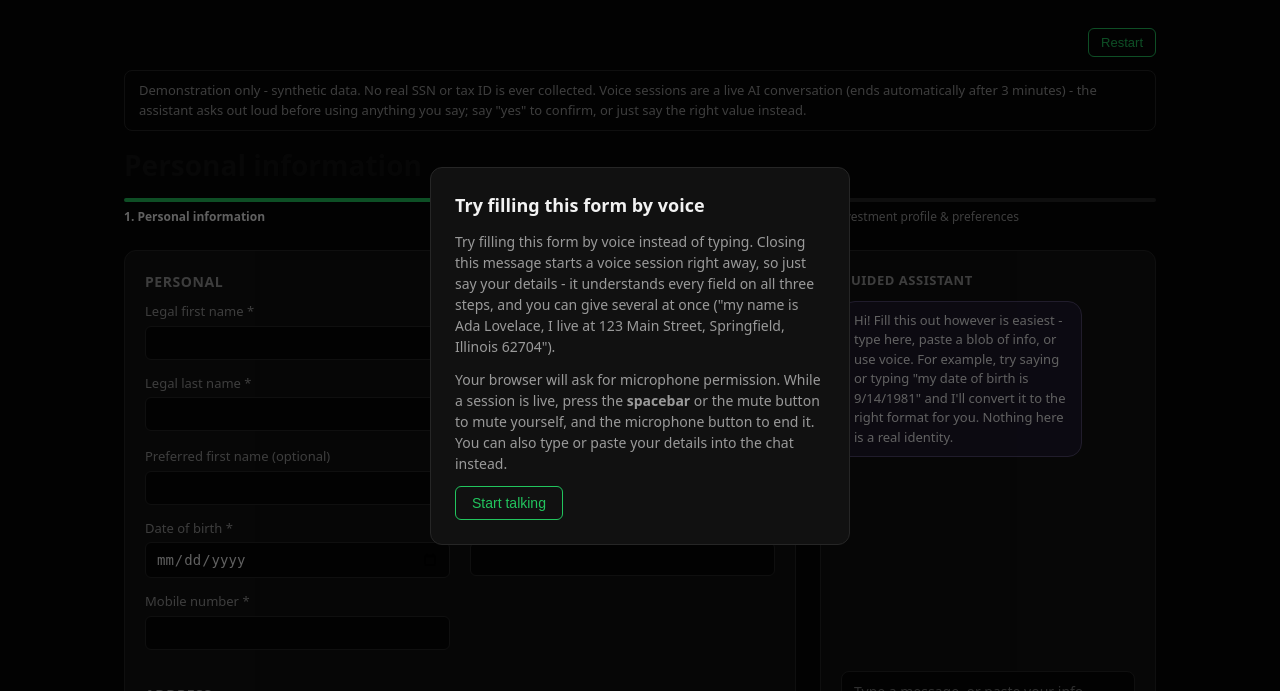
Test: PersonalInformationPage › shows a user chat bubble for the sent message and an acknowledgment listing what was found
The width and height of the screenshot is (1280, 691).
Click the button "Start talking".
click(509, 503)  # box [455,486,563,520]
(page scrolled)
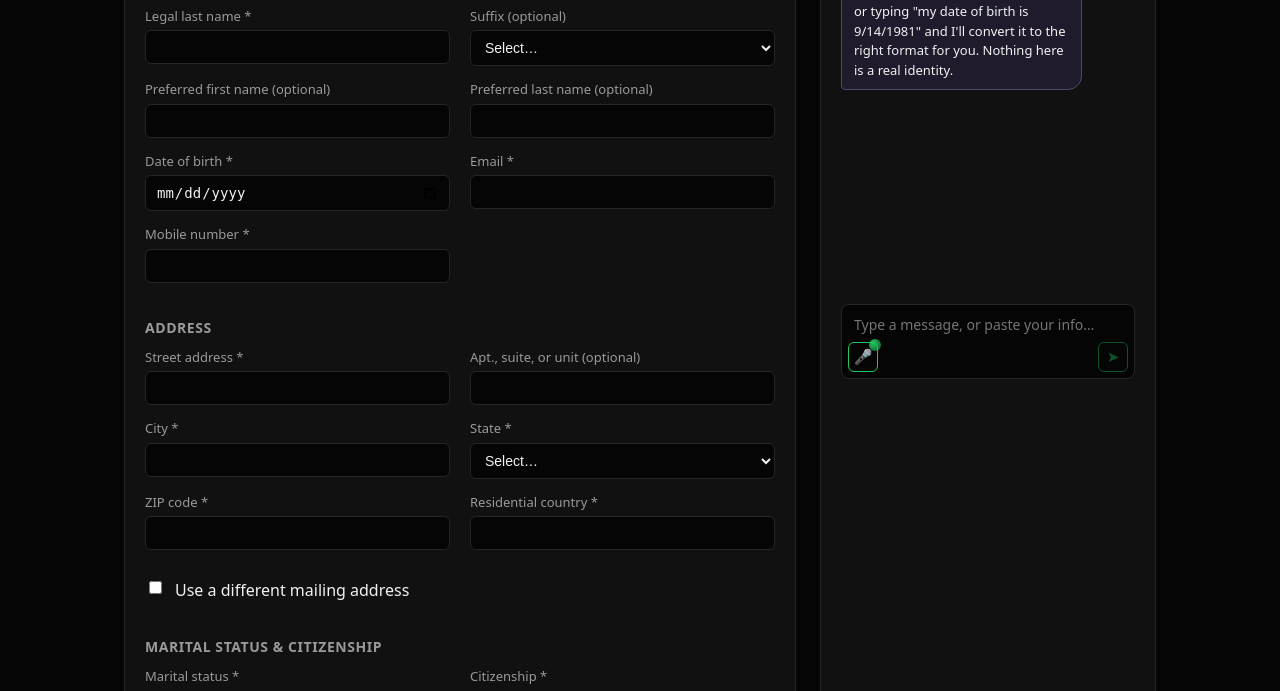
Click the button "🎤".
click(863, 356)  # box [848,342,878,372]
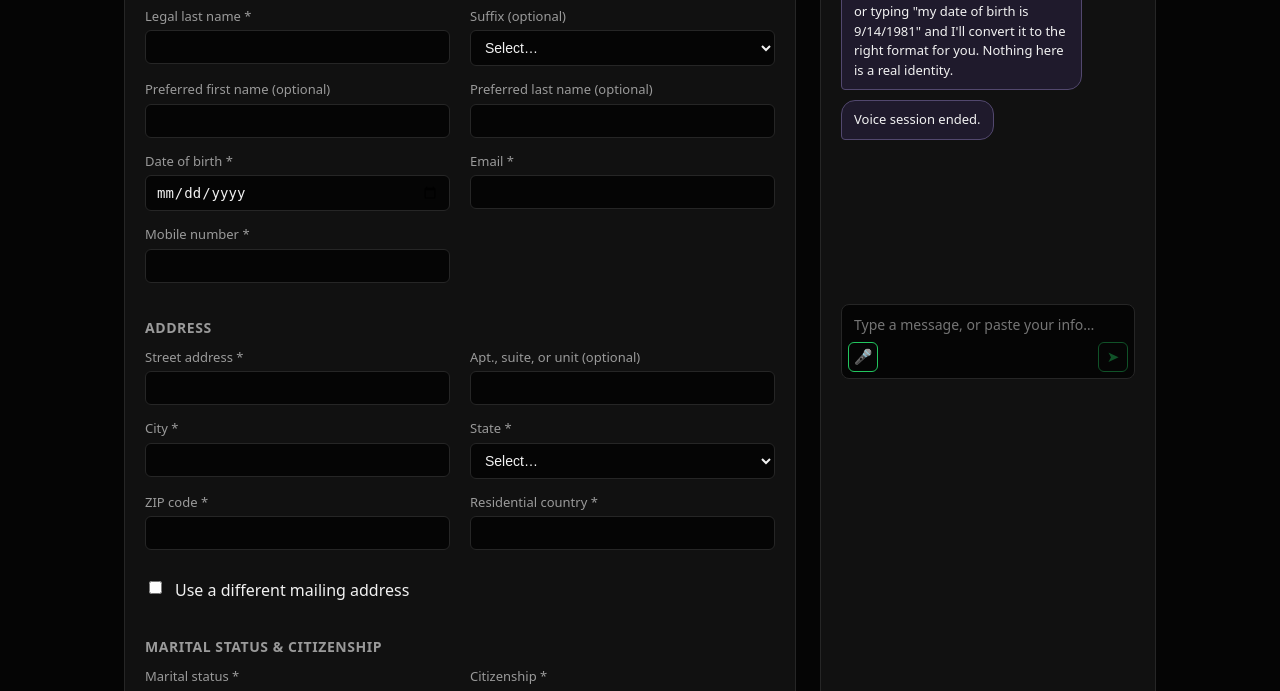
Type "my email is ada@example.test" into the text box with placeholder "Type a message, or paste your info…".
click(988, 321); type("my email is ada@example.test")  # box [842,304,1134,338]
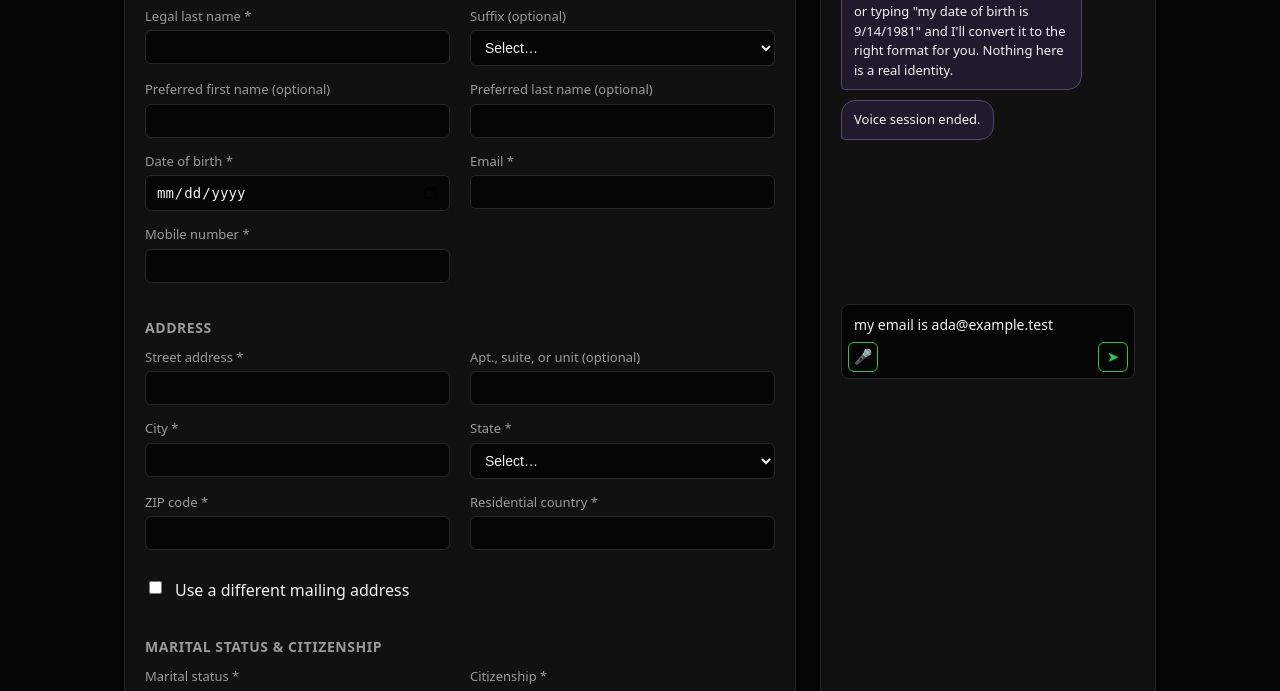
Click the button named "send".
click(1113, 356)  # box [1098,342,1128,372]
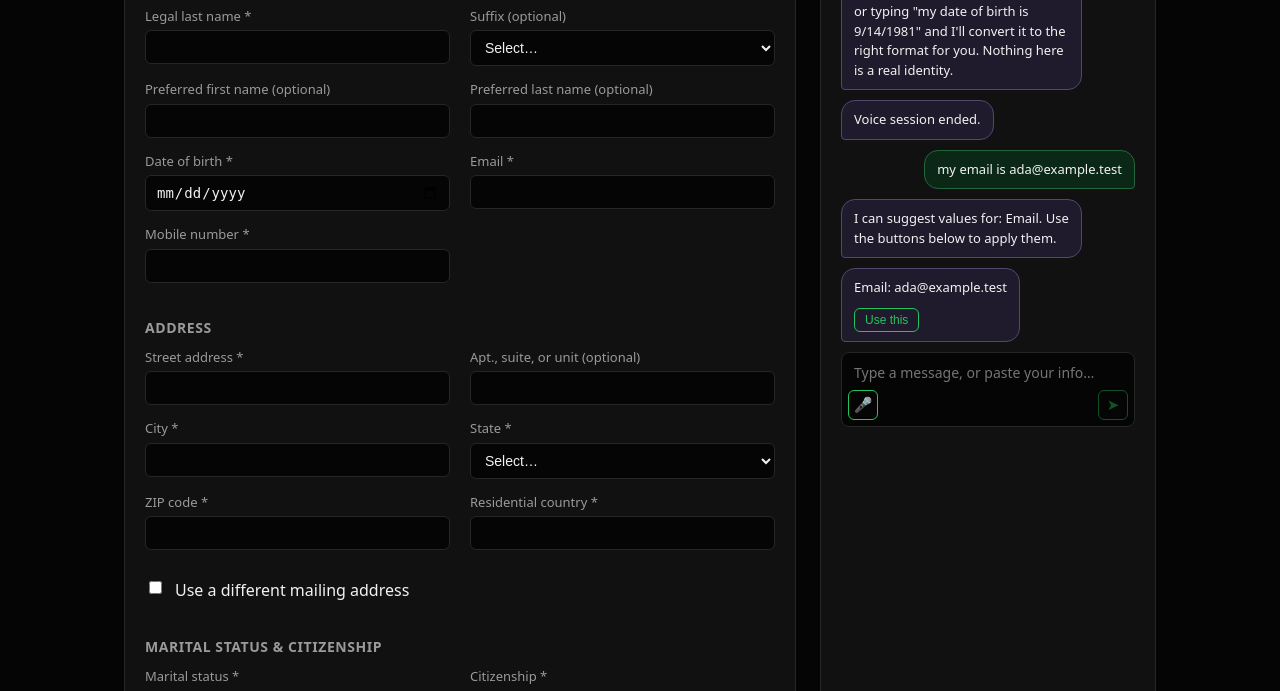
Expected: the text "my email is ada@example.test" is shown, [937,160,1122,179]
Expected: the text "I can suggest values for: Email" is shown, [854,209,1069,246]
